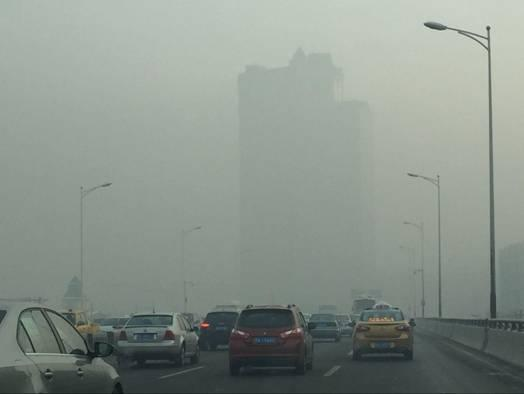bus: (349, 297, 377, 334)
car: (1, 302, 123, 394), (228, 303, 318, 376), (117, 306, 200, 368), (348, 302, 416, 359), (198, 309, 243, 350), (54, 309, 94, 346), (174, 312, 211, 349), (87, 316, 124, 353), (307, 313, 343, 343), (330, 313, 356, 337), (346, 314, 365, 331)
